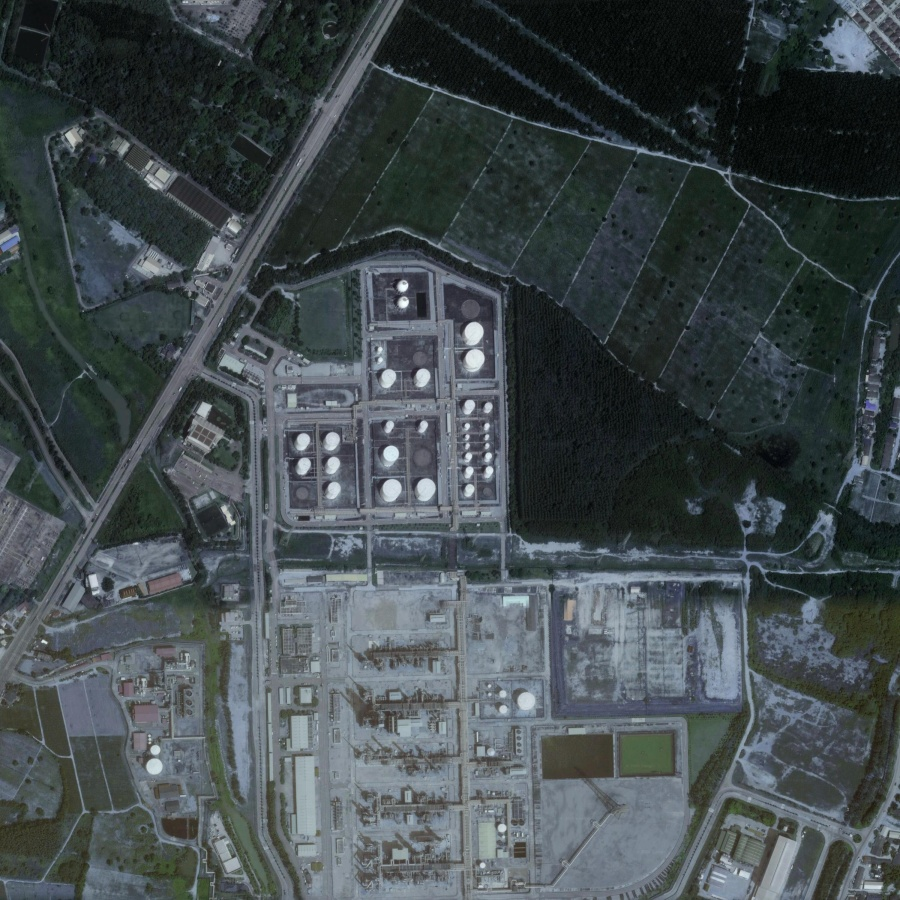PowerPlant: (231, 257, 509, 540), (343, 620, 537, 808)
